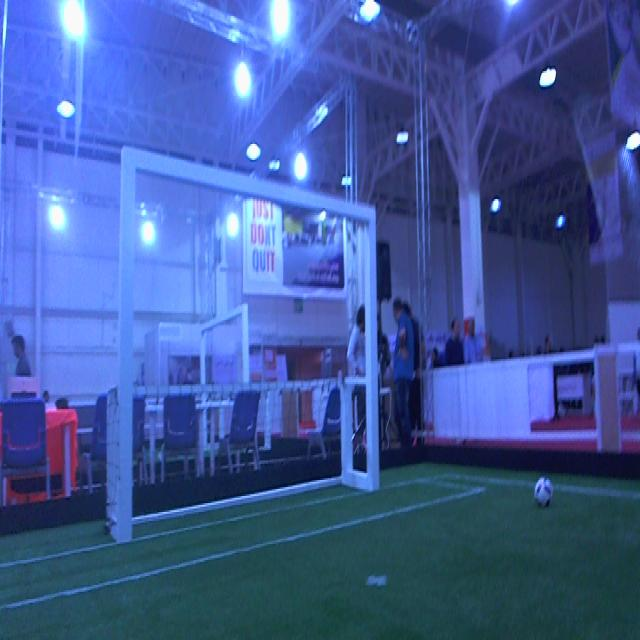ball: (533, 474, 552, 508)
goalpost: (118, 148, 138, 542), (369, 205, 380, 492)
